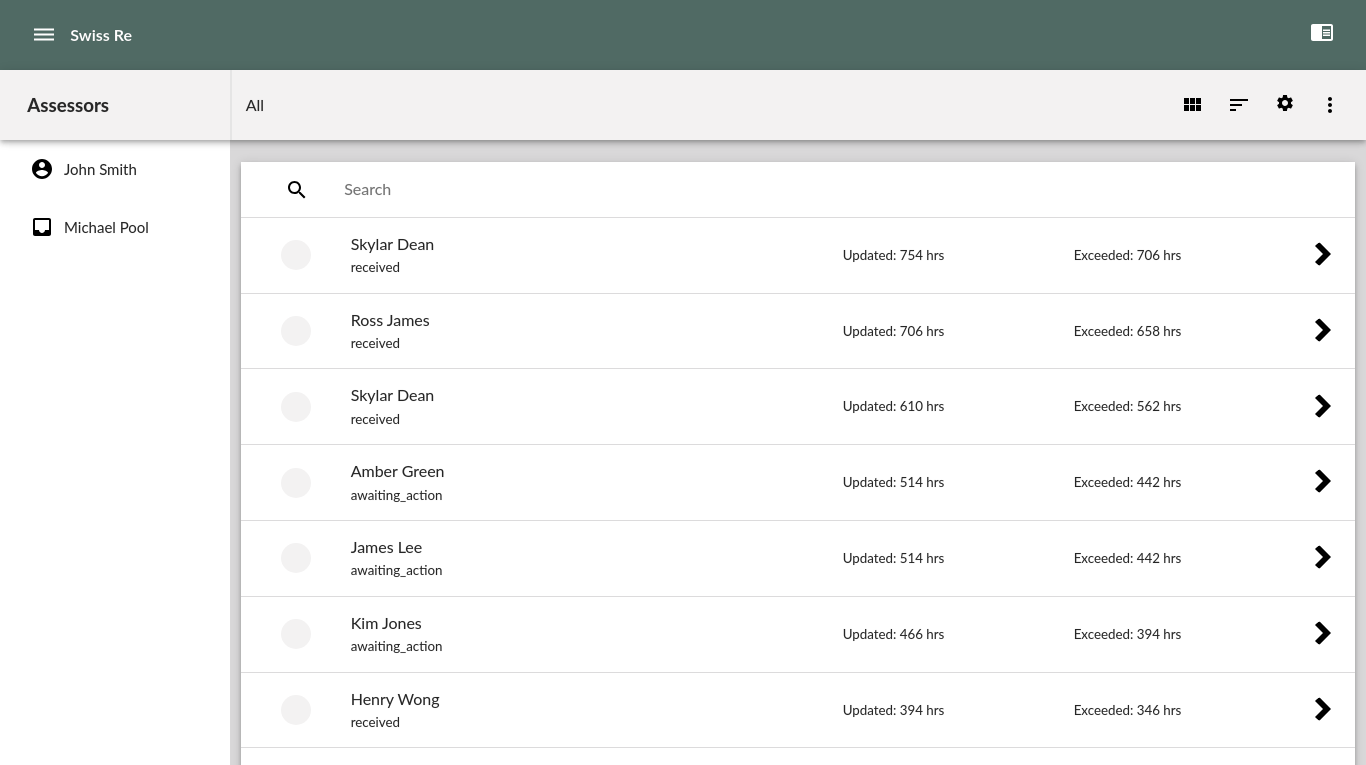
Test: Navigation › cy.get() - query DOM elements
Check: the number of elements with test id "dataContent" is 8, box [241, 218, 1354, 294]
Type "sk" into the field with test id "textSearch".
click(848, 190); type("sk")  # box [342, 178, 1354, 202]
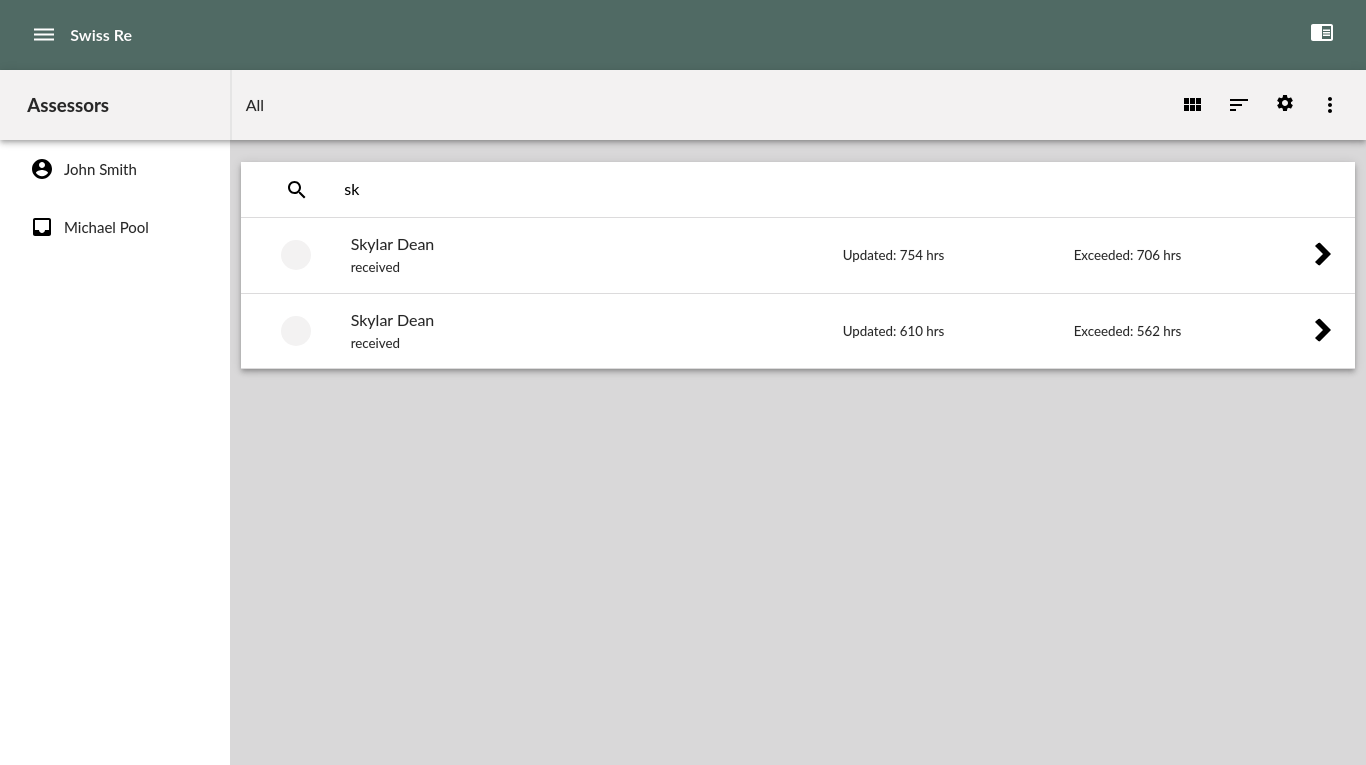
Check: the number of elements with test id "dataContent" is 2, box [241, 218, 1354, 294]
